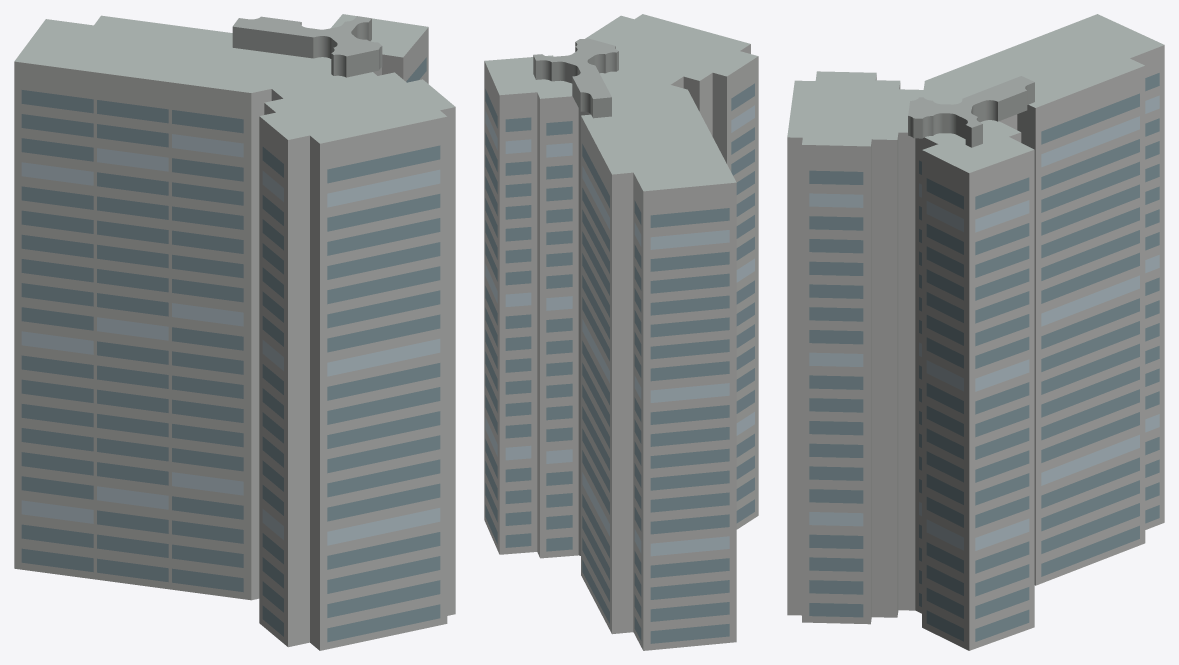
File: fallback-geumho-park-hills-112.glb
The picture shows the model from 3 angles, left to right: view 1: azimuth 30°, elevation 25°; view 2: azimuth 150°, elevation 25°; view 3: azimuth 270°, elevation 25°; orthographic projection. The views are drawn at different scales.
Parts seen in each view (by area): view 1: fallback-geumho-park-hills-112; view 2: fallback-geumho-park-hills-112; view 3: fallback-geumho-park-hills-112.
Part boxes in pixels (box(x1,y1,x2,y2)): fallback-geumho-park-hills-112: box(14, 14, 455, 650); fallback-geumho-park-hills-112: box(484, 14, 758, 650); fallback-geumho-park-hills-112: box(787, 14, 1164, 650).
Bounding box in the file's own units: 41.18 × 60 × 41.26.
